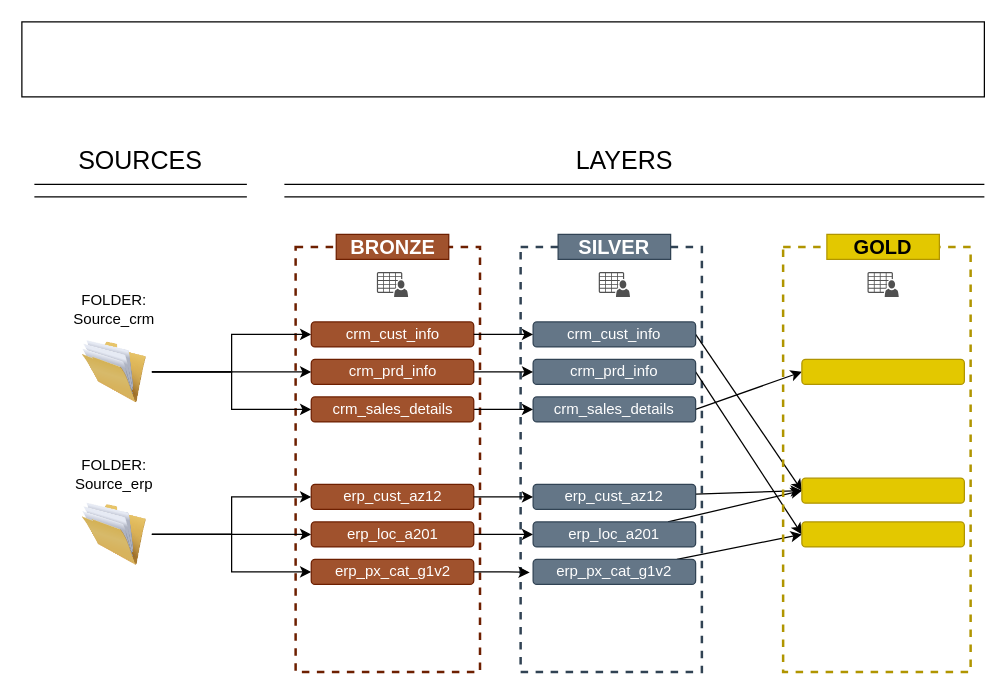
This 1008x695 diagram has some shape labels left out. The shapes that lost their labels are listed below. From the top down, each one's box as (x1, y1, x2, y2) in pixels, then its label:
(21, 21, 984, 97): DATA FLOW
(801, 358, 964, 384): fact_sales
(801, 477, 964, 503): dim_customers
(801, 521, 964, 547): dim_products
